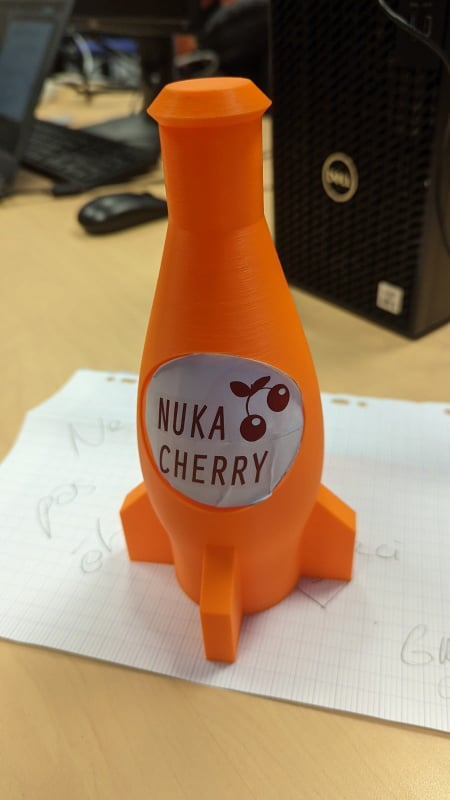bottle: (120, 73, 361, 669)
